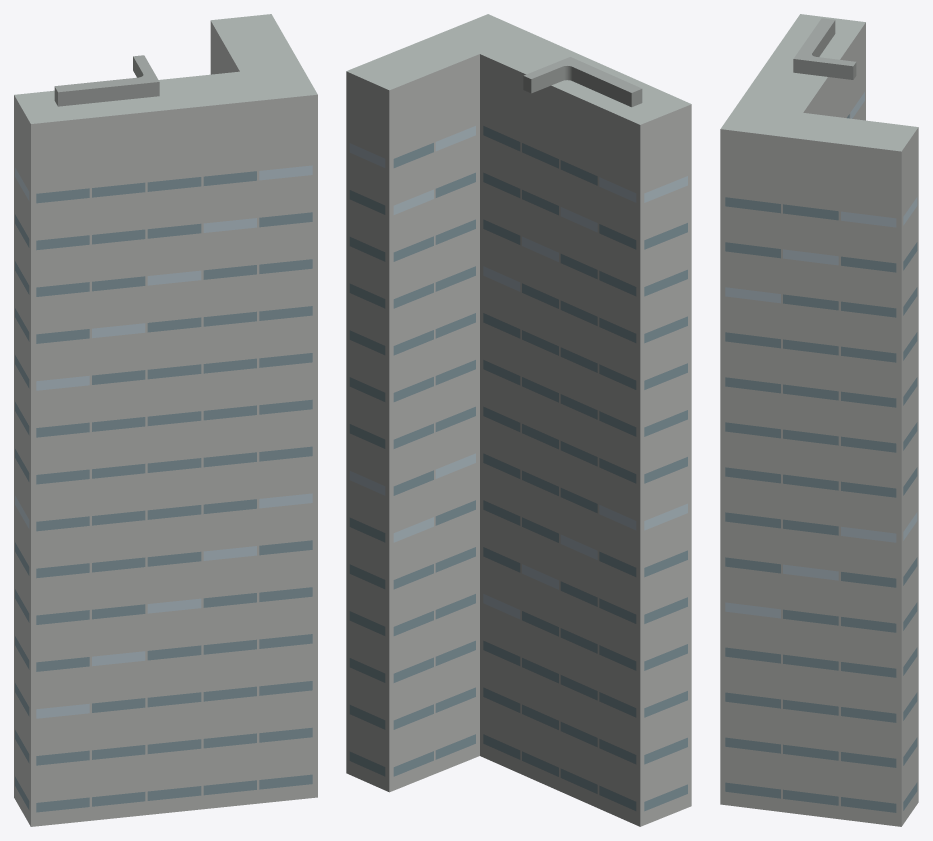
File: fallback-olympic-park-foreon-118.glb
3 views of the same model, side by side, from view 1: azimuth 30°, elevation 25°; view 2: azimuth 150°, elevation 25°; view 3: azimuth 270°, elevation 25° (orthographic). The views are drawn at different scales.
Parts seen in each view (by area): view 1: fallback-olympic-park-foreon-118; view 2: fallback-olympic-park-foreon-118; view 3: fallback-olympic-park-foreon-118.
Boxes of the visible parts, <box> form: fallback-olympic-park-foreon-118: <box>14,14,317,826</box>; fallback-olympic-park-foreon-118: <box>346,14,691,826</box>; fallback-olympic-park-foreon-118: <box>720,14,918,826</box>.
Bounding box in the file's own units: 51.37 × 120 × 31.27.
